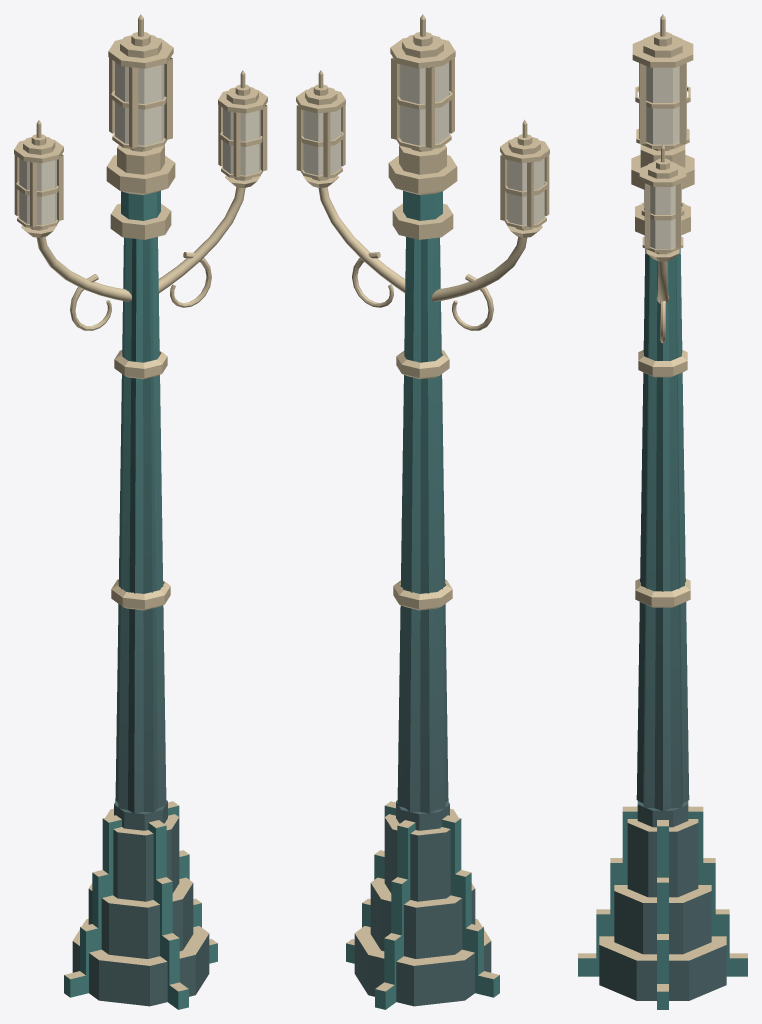
File: KC32__AD_Ext_Streetlamp.glb
3 renders of one model, left to right at view 1: azimuth 30°, elevation 25°; view 2: azimuth 150°, elevation 25°; view 3: azimuth 270°, elevation 25°, orthographic.
Visible parts, largest first — view 1: KC32_CORPS__AD_Ext_Streetlamp, KC32_BRONZE__AD_Ext_Streetlamp, KC32_LUMIERE__AD_Ext_Streetlamp; view 2: KC32_CORPS__AD_Ext_Streetlamp, KC32_BRONZE__AD_Ext_Streetlamp, KC32_LUMIERE__AD_Ext_Streetlamp; view 3: KC32_CORPS__AD_Ext_Streetlamp, KC32_BRONZE__AD_Ext_Streetlamp, KC32_LUMIERE__AD_Ext_Streetlamp.
Boxes of the visible parts, bbox=[...] form: KC32_CORPS__AD_Ext_Streetlamp: bbox=[64, 190, 217, 1009]; KC32_BRONZE__AD_Ext_Streetlamp: bbox=[14, 14, 267, 991]; KC32_LUMIERE__AD_Ext_Streetlamp: bbox=[19, 62, 260, 225]; KC32_CORPS__AD_Ext_Streetlamp: bbox=[346, 190, 499, 1009]; KC32_BRONZE__AD_Ext_Streetlamp: bbox=[296, 14, 549, 991]; KC32_LUMIERE__AD_Ext_Streetlamp: bbox=[303, 62, 544, 225]; KC32_CORPS__AD_Ext_Streetlamp: bbox=[578, 190, 747, 1009]; KC32_BRONZE__AD_Ext_Streetlamp: bbox=[578, 14, 747, 991]; KC32_LUMIERE__AD_Ext_Streetlamp: bbox=[639, 63, 686, 248].
Size of the model in its own units: 1.39 by 5.24 by 0.84.
